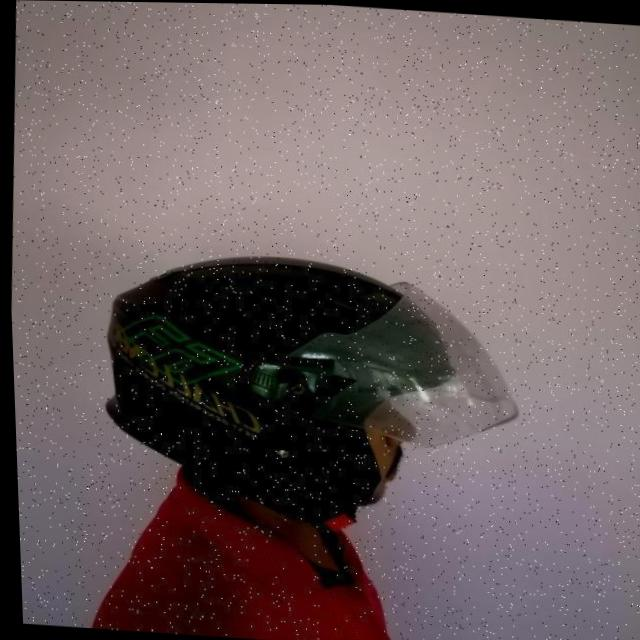helmet: (89, 241, 527, 555)
